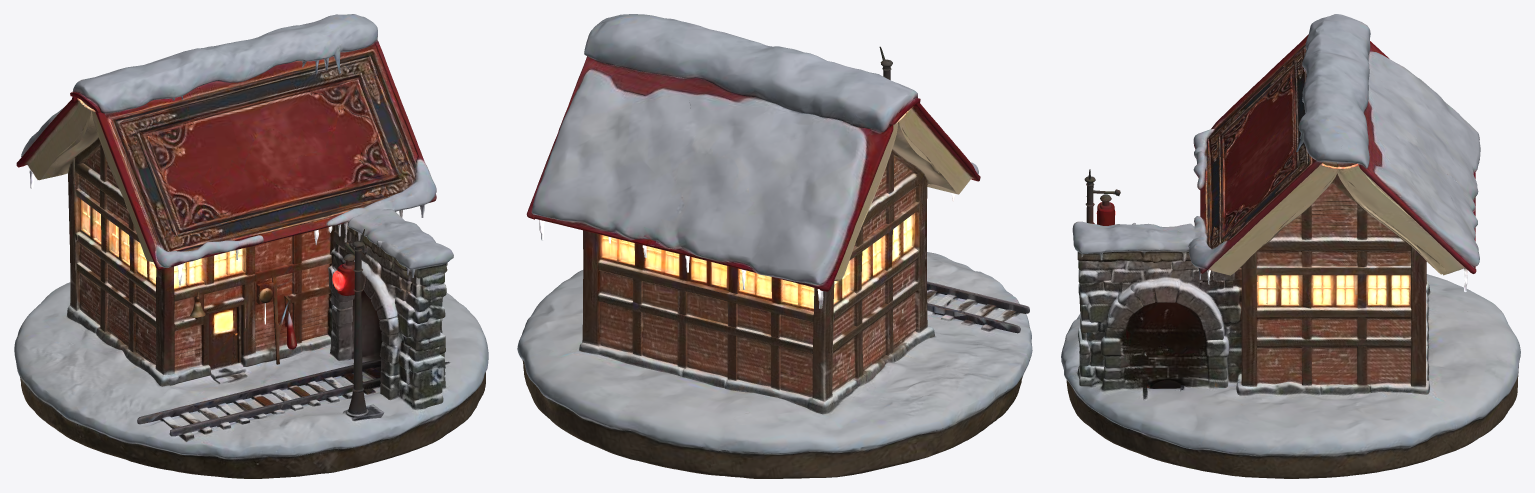
The model's file is signal-man.glb.
3 renders of one model, left to right at view 1: azimuth 30°, elevation 25°; view 2: azimuth 150°, elevation 25°; view 3: azimuth 270°, elevation 25°, orthographic. The views are drawn at different scales.
Parts seen in each view (by area): view 1: model; view 2: model; view 3: model.
Part boxes in pixels (x1,y1,x2,y2): model: (14, 14, 488, 478); model: (517, 14, 1032, 478); model: (1061, 14, 1520, 478).
Size of the model in its own units: 1.89 by 1.43 by 1.9.
Materials: 1 (1 with a texture image).
